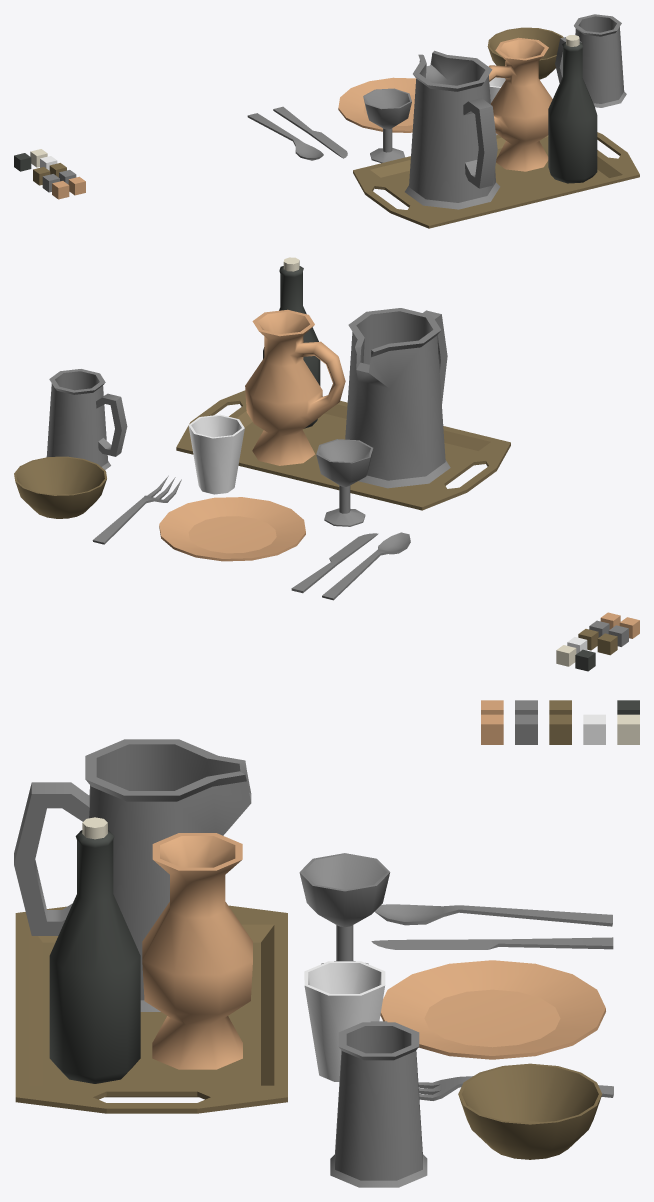
The model's file is dinnerware.fbx.
The picture shows the model from 3 angles, top to bottom: view 1: azimuth 30°, elevation 25°; view 2: azimuth 150°, elevation 25°; view 3: azimuth 270°, elevation 25°; orthographic projection. The views are drawn at different scales.
Parts seen in each view (by area): view 1: Pitcher, Platter, Jug, WineBottle, Tankard, Goblet, DinnerPlate, DinnerBowl, Spoon, Knife; view 2: Pitcher, Jug, Platter, DinnerPlate, Tankard, DinnerBowl, Cup, Goblet, WineBottle, Spoon, Fork, Knife; view 3: Pitcher, Platter, Jug, WineBottle, DinnerPlate, Tankard, DinnerBowl, Cup, Goblet, Spoon, Knife, Fork (+5 smaller).
Boxes of the visible parts, x1,y1,x2,y2 form: Pitcher: (405, 50, 500, 209); Platter: (353, 132, 639, 228); Jug: (488, 37, 552, 171); WineBottle: (548, 35, 597, 183); Tankard: (555, 14, 626, 107); Goblet: (363, 88, 411, 163); DinnerPlate: (338, 77, 416, 132); DinnerBowl: (487, 27, 563, 79); Spoon: (247, 113, 323, 160); Knife: (273, 106, 347, 158); Pitcher: (345, 308, 450, 488); Jug: (245, 309, 345, 465); Platter: (176, 390, 510, 510); DinnerPlate: (159, 497, 305, 561); Tankard: (46, 369, 127, 469); DinnerBowl: (14, 456, 106, 518); Cup: (188, 414, 244, 494); Goblet: (316, 439, 373, 526); WineBottle: (263, 257, 320, 428); Spoon: (322, 532, 410, 600); Fork: (92, 475, 181, 544); Knife: (291, 533, 378, 593); Pitcher: (14, 739, 251, 1011); Platter: (15, 905, 287, 1113); Jug: (142, 833, 252, 1069); WineBottle: (49, 817, 140, 1083); DinnerPlate: (380, 960, 605, 1059); Tankard: (330, 1021, 427, 1187); DinnerBowl: (458, 1063, 602, 1159); Cup: (304, 961, 385, 1081); Goblet: (299, 853, 390, 964); Spoon: (374, 904, 612, 926); Knife: (371, 937, 613, 949); Fork: (418, 1076, 613, 1100).
Size of what is drawn, in the model's own units: 9.73 by 2.46 by 5.51.
